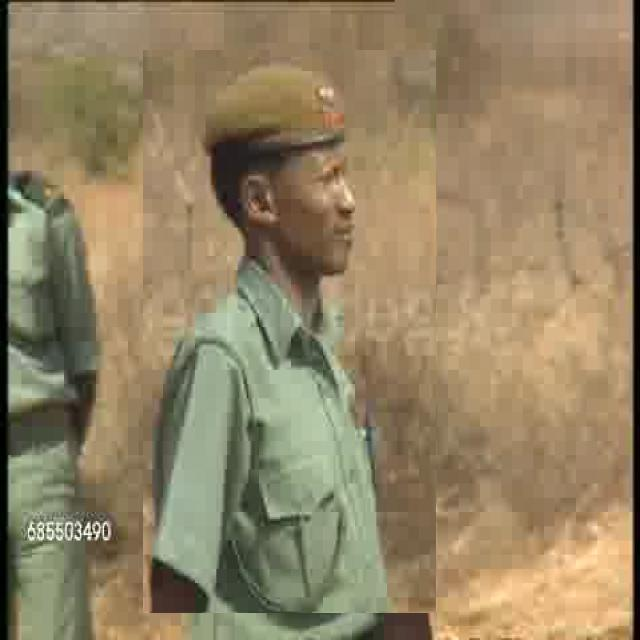poacher: (143, 50, 436, 613)
